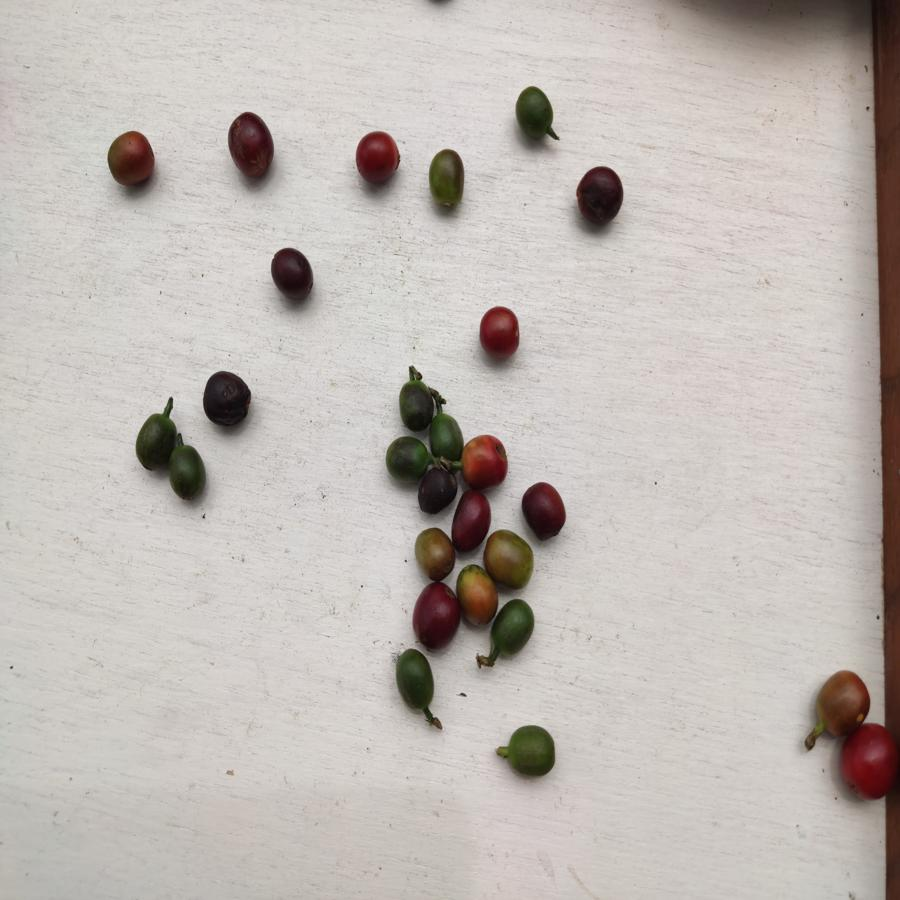Inmaduro: (392, 649, 440, 711), (508, 720, 556, 781), (494, 597, 537, 664), (131, 413, 180, 468), (513, 85, 559, 142), (166, 442, 209, 500), (394, 375, 435, 431), (384, 433, 429, 482), (426, 413, 463, 462)
Maduro: (837, 724, 894, 804), (353, 127, 402, 188), (459, 434, 509, 490), (476, 305, 522, 358)
Pinton: (813, 668, 870, 723), (485, 530, 538, 589), (106, 131, 156, 187), (458, 562, 500, 624), (427, 149, 468, 211), (414, 527, 453, 580)
Sobremaduro: (226, 108, 276, 181), (200, 370, 254, 434), (411, 579, 459, 650), (574, 166, 626, 226), (522, 479, 569, 543), (269, 246, 319, 303), (448, 490, 491, 552), (416, 466, 454, 518)
